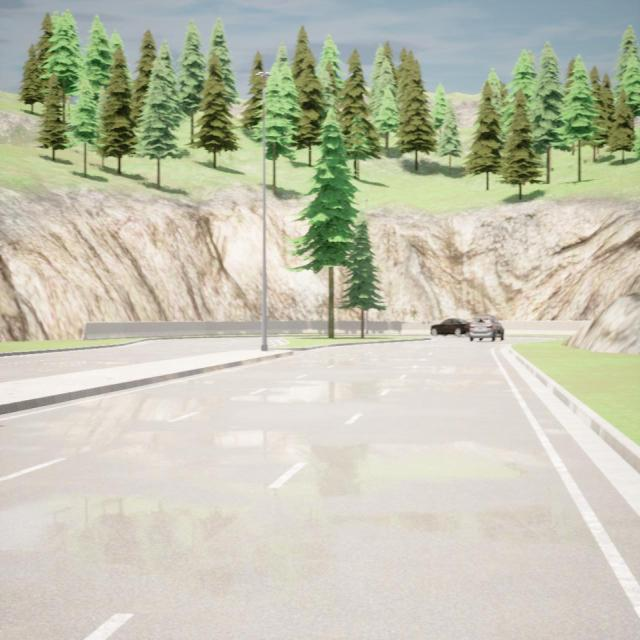Vehicle: (469, 315, 504, 340), (429, 316, 468, 337)
